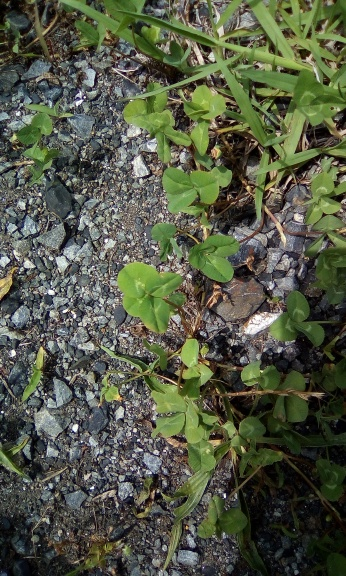4leaf: (116, 262, 183, 335)
